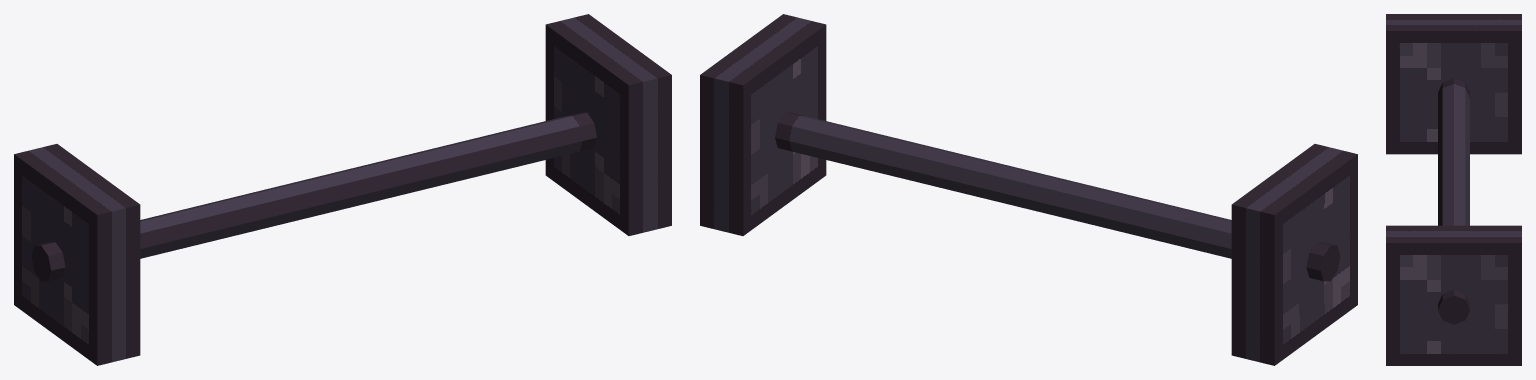
The model's file is SM_barBell1.fbx.
3 views of the same model, side by side, from view 1: azimuth 30°, elevation 25°; view 2: azimuth 150°, elevation 25°; view 3: azimuth 270°, elevation 25° (orthographic). The views are drawn at different scales.
Parts seen in each view (by area): view 1: barBell1; view 2: barBell1; view 3: barBell1.
Part boxes in pixels (bbox=[...]): barBell1: bbox=[14, 14, 671, 365]; barBell1: bbox=[700, 14, 1357, 365]; barBell1: bbox=[1386, 14, 1521, 365].
Size of the model in its own units: 42 by 10.04 by 10.04.
